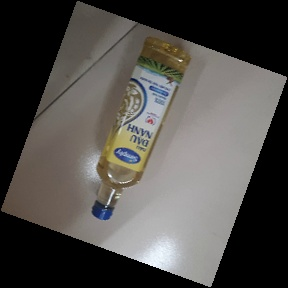Simply: (90, 34, 193, 221)
